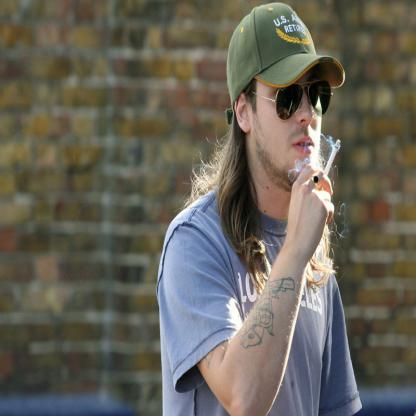smoking: (316, 140, 340, 194)
